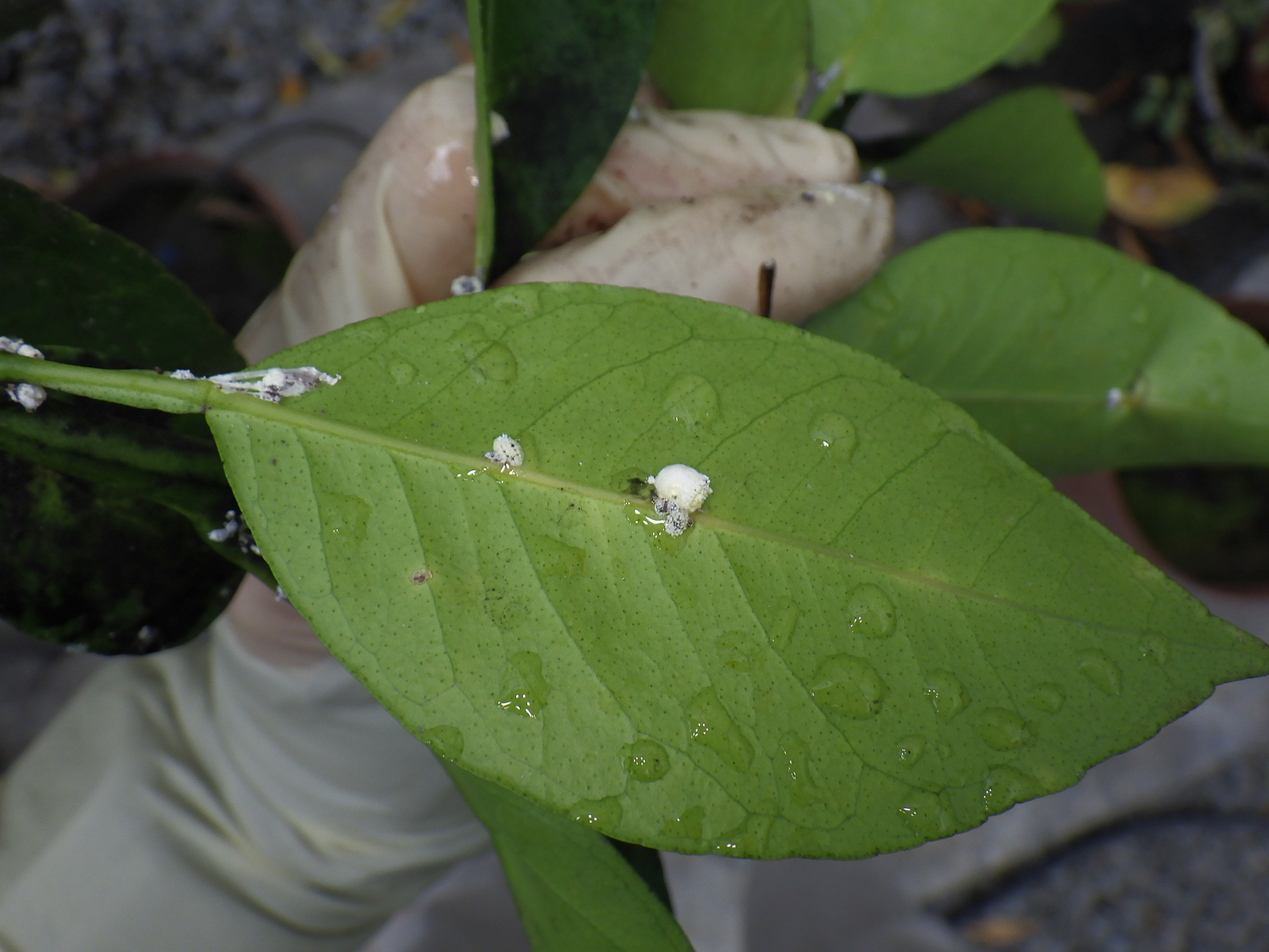Scale_Insect: (166, 366, 341, 402), (646, 464, 711, 536), (484, 434, 524, 470), (0, 336, 45, 358), (14, 384, 44, 411)
